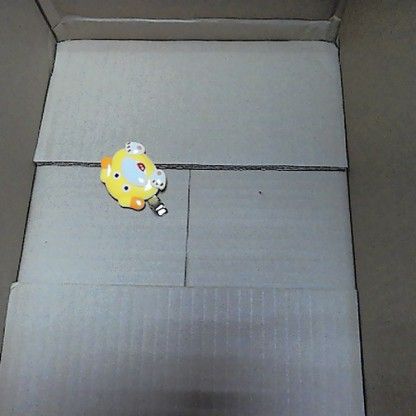dogclip: (99, 138, 169, 219)
